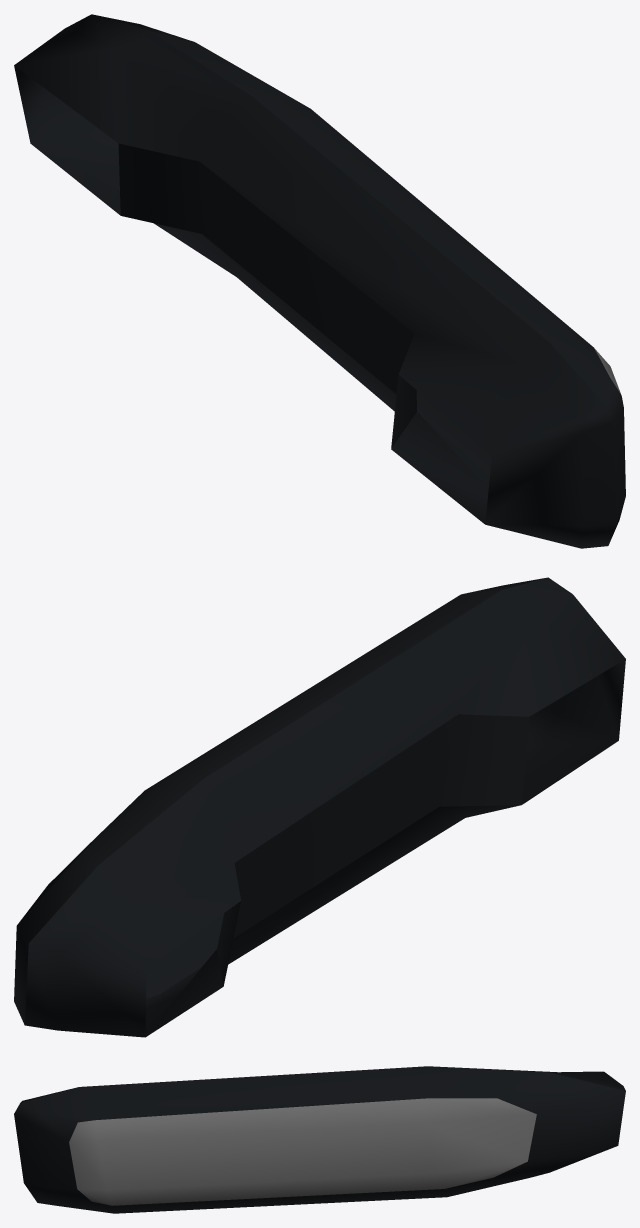
The model's file is Manija.glb.
3 views of the same model, one above another, from view 1: azimuth 30°, elevation 25°; view 2: azimuth 150°, elevation 25°; view 3: azimuth 270°, elevation 25° (orthographic). The views are drawn at different scales.
Parts seen in each view (by area): view 1: polySurface12.3; view 2: polySurface12.3; view 3: polySurface12.3.
Boxes of the visible parts, bbox=[...] form: polySurface12.3: bbox=[14, 14, 625, 548]; polySurface12.3: bbox=[14, 577, 625, 1037]; polySurface12.3: bbox=[14, 1066, 625, 1213].
Size of the model in its own units: 0.000291 by 0.000349 by 0.00142.
Materials: 2 (2 with a texture image).
